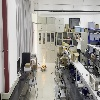fire: (42, 48, 45, 68)
